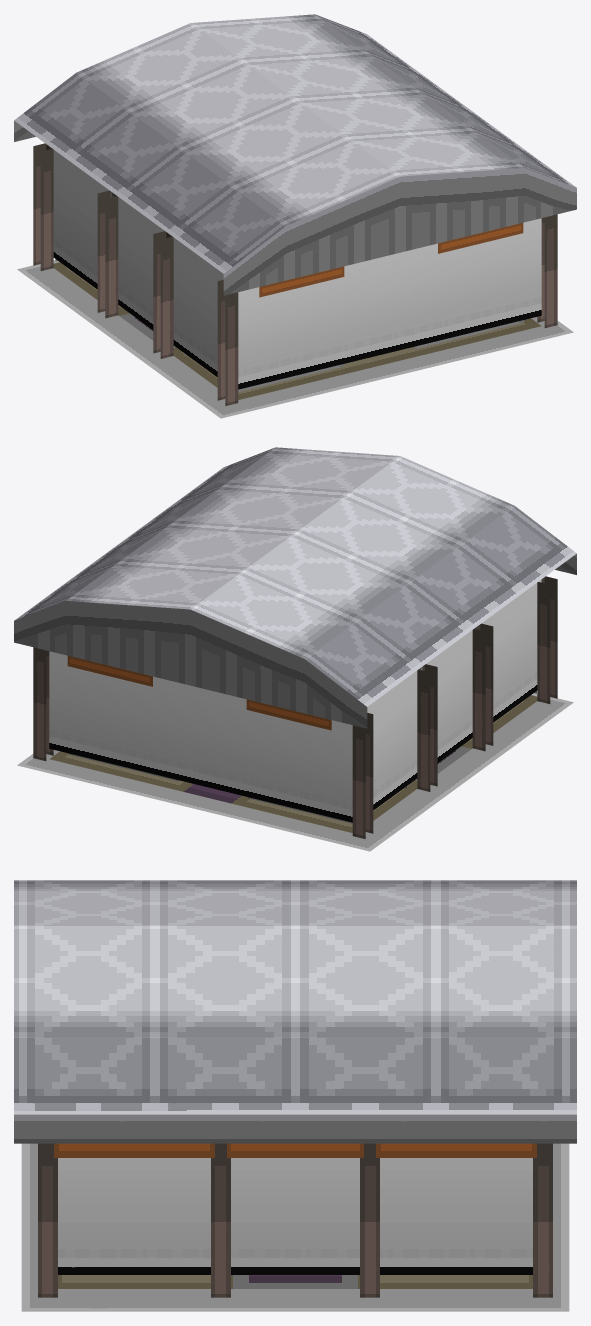
The picture shows the model from 3 angles, top to bottom: view 1: azimuth 30°, elevation 25°; view 2: azimuth 150°, elevation 25°; view 3: azimuth 270°, elevation 25°; orthographic projection. The views are drawn at different scales.
Parts seen in each view (by area): view 1: polygon3, polygon4, polygon1, polygon0, polygon2; view 2: polygon3, polygon4, polygon1, polygon0, polygon2; view 3: polygon3, polygon4, polygon1, polygon2, polygon0.
Boxes of the visible parts, x1,y1,x2,y2 form: polygon3: (14,14,576,405); polygon4: (49,148,541,389); polygon1: (17,260,573,418); polygon0: (53,262,541,399); polygon2: (55,223,523,391); polygon3: (14,447,576,838); polygon4: (49,579,541,822); polygon1: (17,693,573,851); polygon0: (49,695,537,832); polygon2: (67,656,536,823); polygon3: (14,880,576,1297); polygon4: (58,1158,532,1274); polygon1: (21,1143,569,1311); polygon2: (54,1143,536,1157); polygon0: (58,1275,532,1288).
Size of the model in its own units: 8.5 by 4.62 by 8.74.
